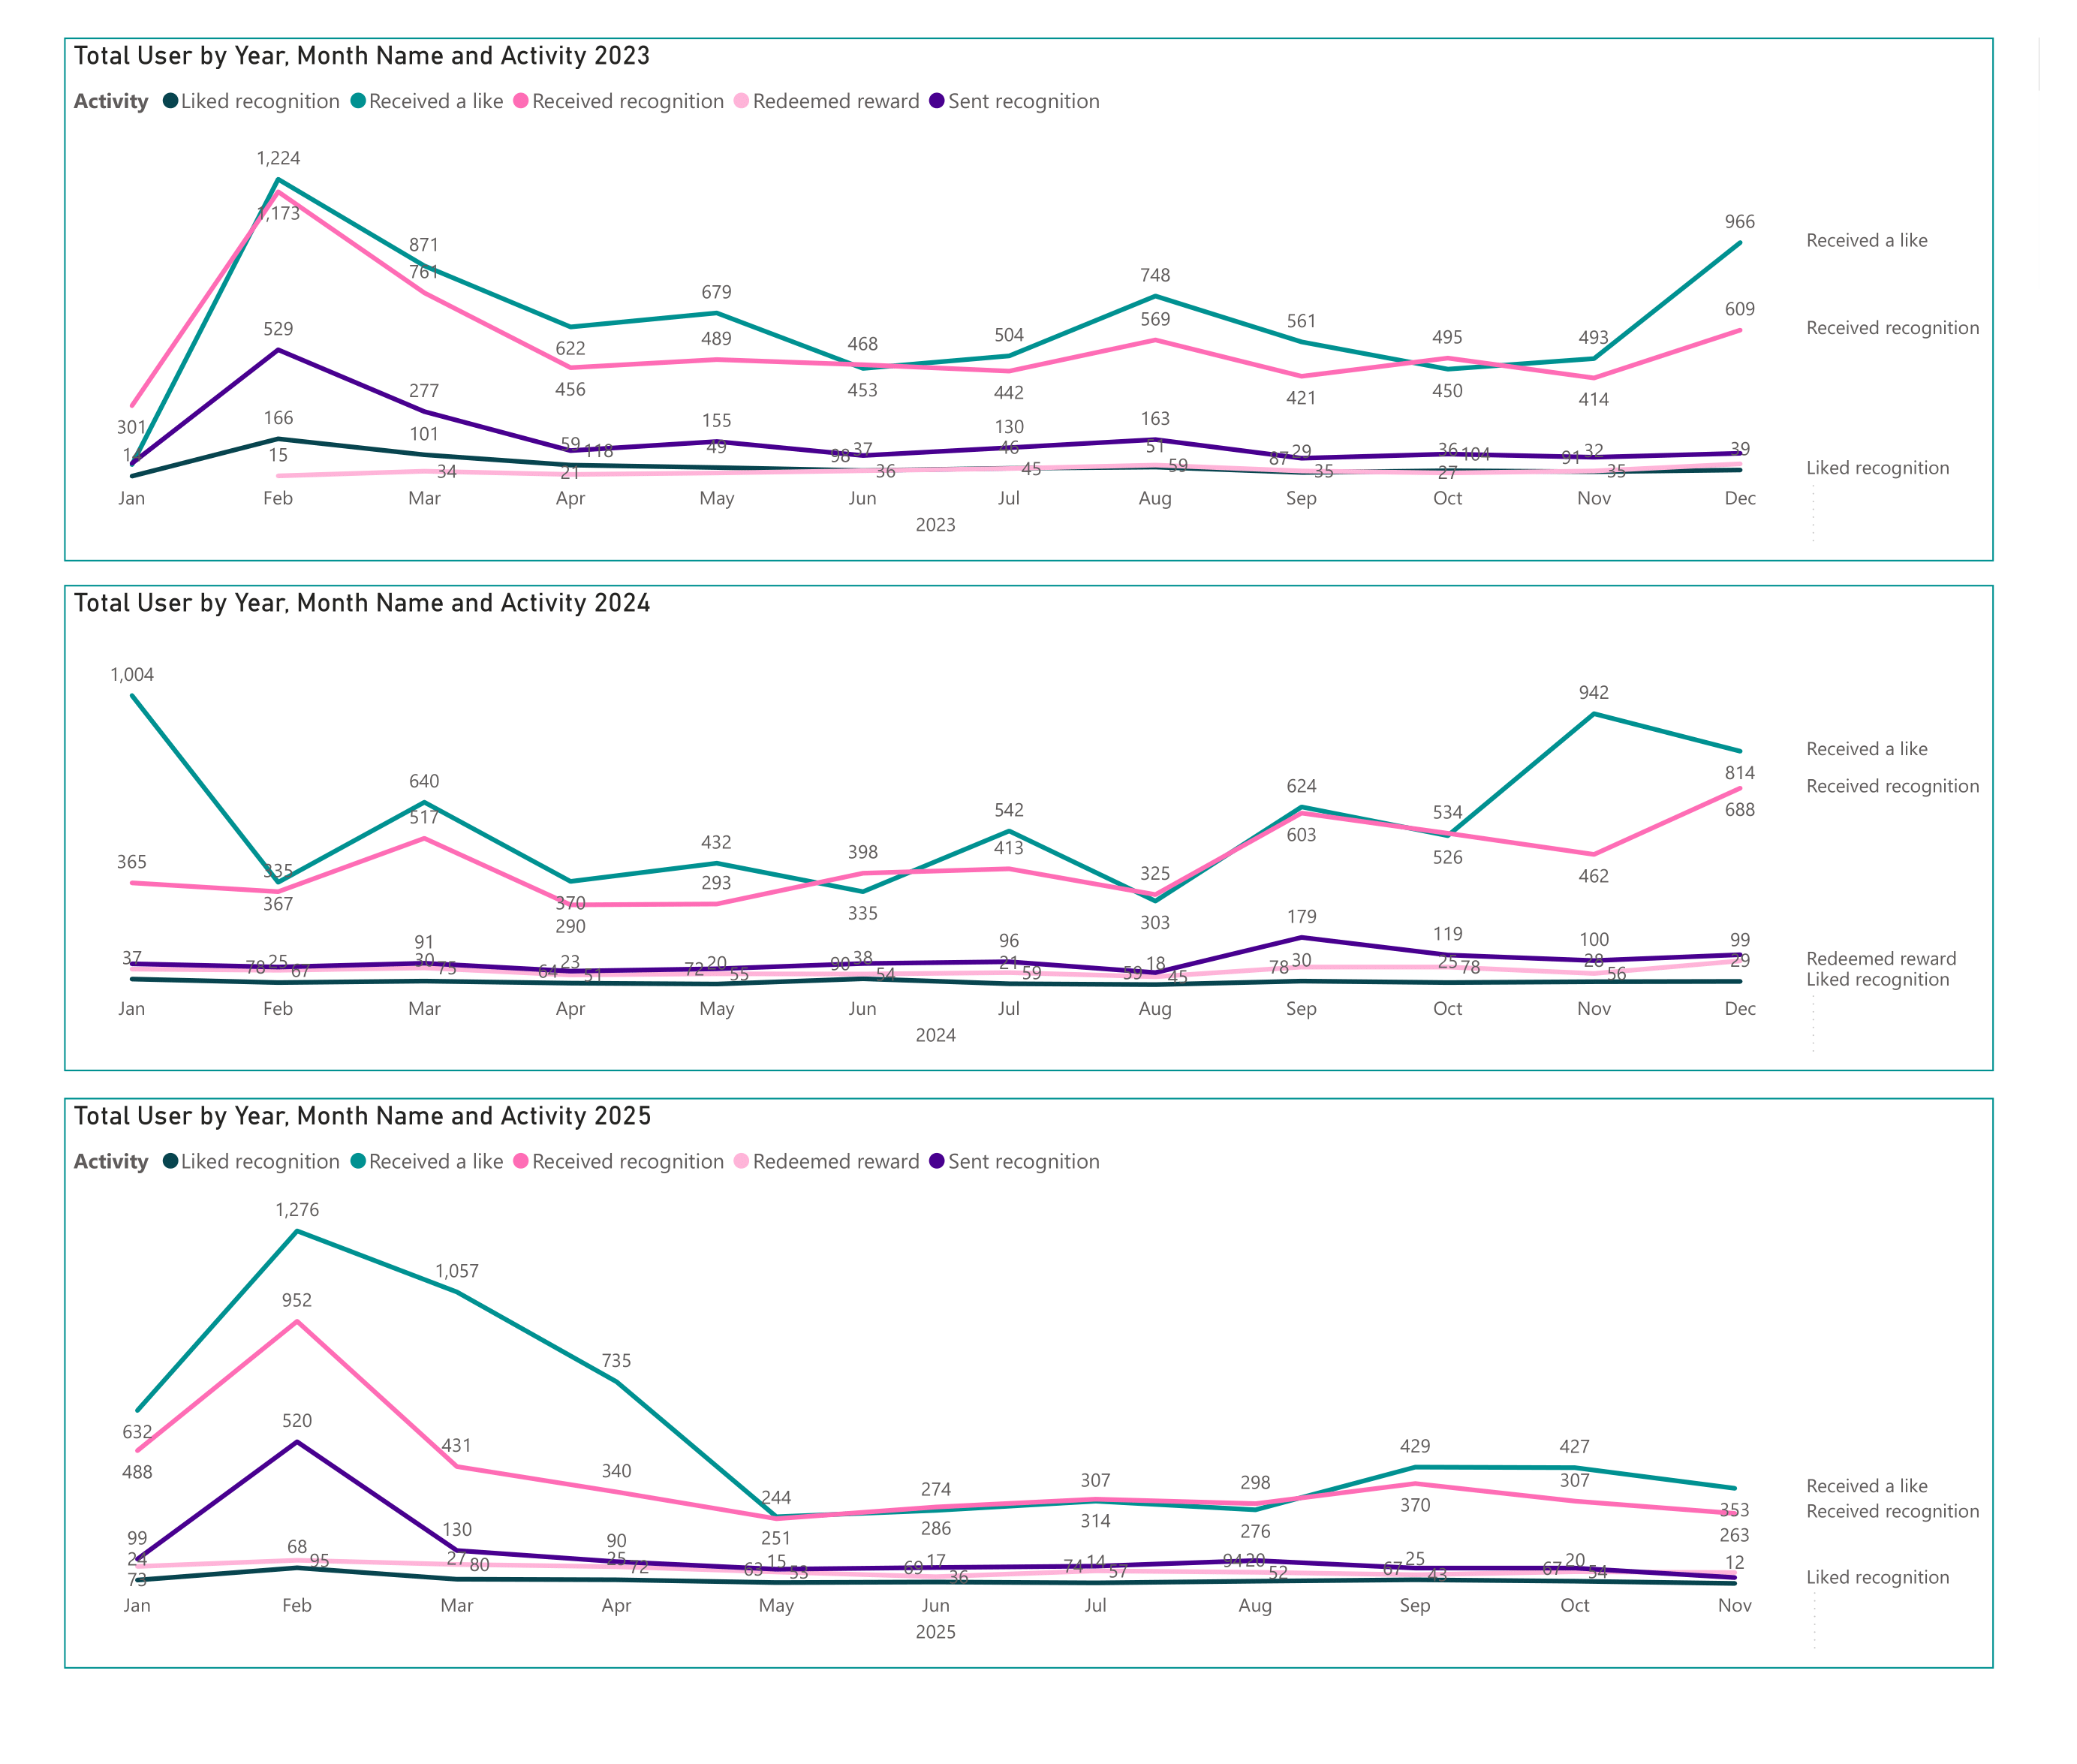

Layout of this report page (visuals, bound fields, positions):
{"tool":"powerbi","page":{"name":"RewardRed8","canvas":[1280,1080],"ordinal":16},"visuals":[{"type":"lineChart","title":"Total User by Year, Month Name and Activity 2023","fields":{"Category":["DimDate.Year","DimDate.Month Name"],"Series":["Activities.Activity"],"Y":["Activities.Total User"]},"box":[17.3,0,1233.4,334.8],"z":0},{"type":"lineChart","title":"Total User by Year, Month Name and Activity 2024","fields":{"Category":["DimDate.Year","DimDate.Month Name"],"Series":["Activities.Activity"],"Y":["Activities.Total User"]},"box":[17.3,349.9,1233.4,311],"z":1000},{"type":"lineChart","title":"Total User by Year, Month Name and Activity 2025","fields":{"Category":["DimDate.Year","DimDate.Month Name"],"Series":["Activities.Activity"],"Y":["Activities.Total User"]},"box":[17.3,678.2,1233.4,365],"z":2000}]}

Visuals, with their boxes on the page's 1280x1080 design canvas (x1, y1, x2, y2). These are canvas units, not pixel positions in the 2077x1764 screenshot, which may show the page scaled, cropped or inside an application window:
"Total User by Year, Month Name and Activity 2023" lineChart: bbox(17, 0, 1251, 335)
"Total User by Year, Month Name and Activity 2024" lineChart: bbox(17, 350, 1251, 661)
"Total User by Year, Month Name and Activity 2025" lineChart: bbox(17, 678, 1251, 1043)
